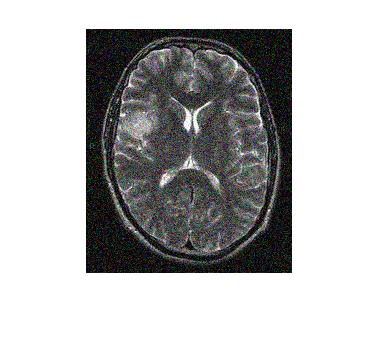Brain_Cancer: (122, 109, 159, 145)
